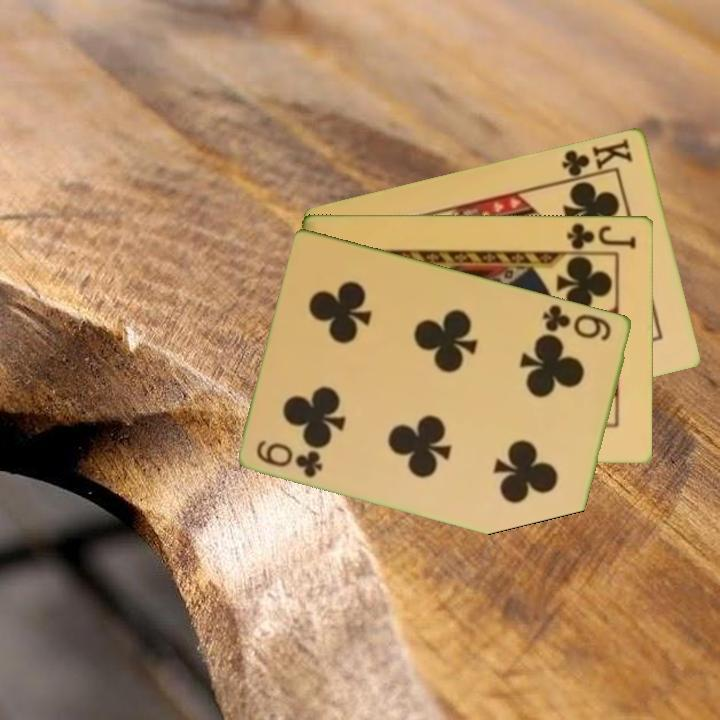6c: (253, 436, 327, 480), (539, 301, 615, 343)
Jc: (564, 219, 639, 252)
Kc: (558, 135, 636, 184)
